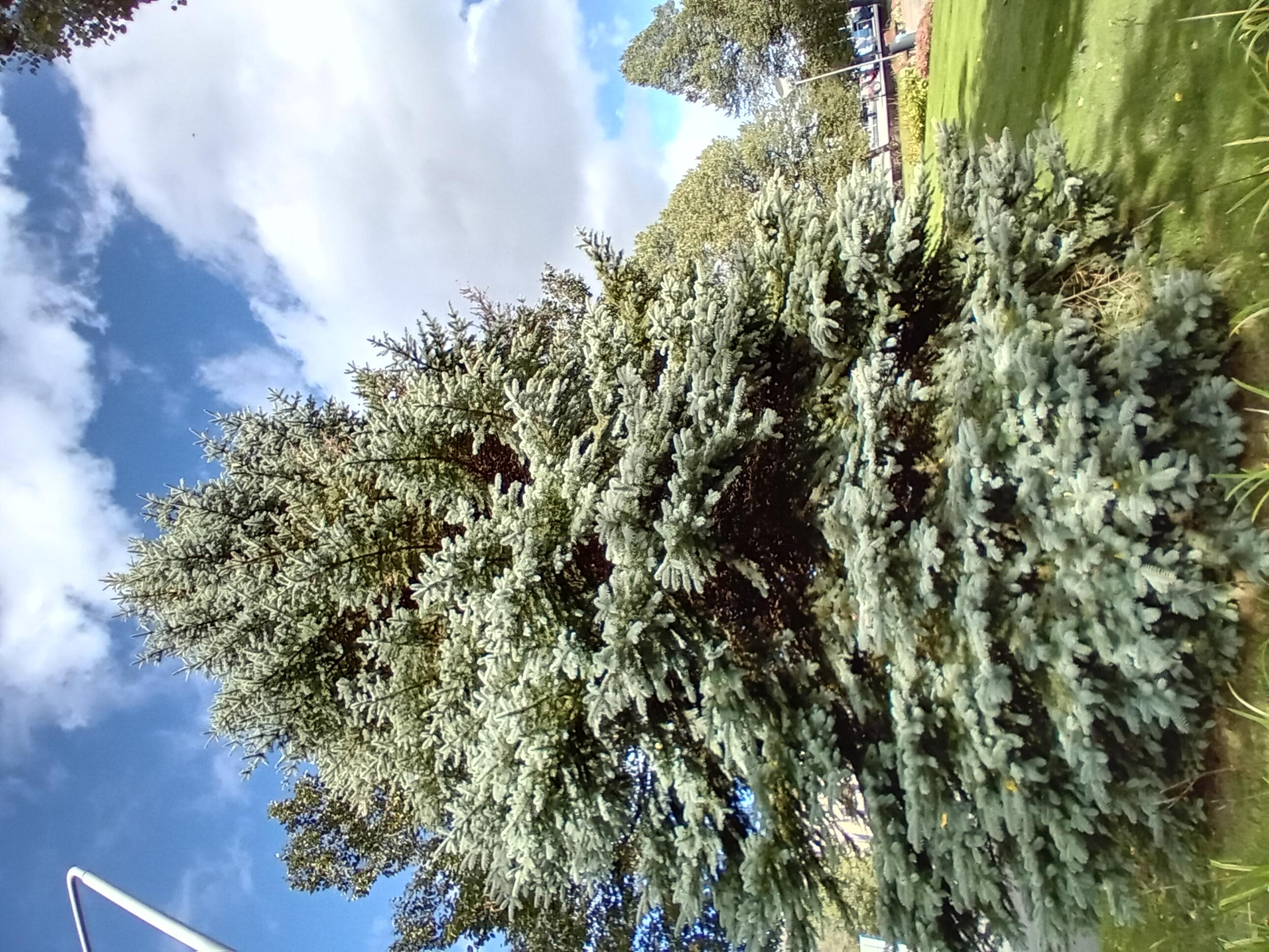Spruce: (1, 72, 1131, 950)
